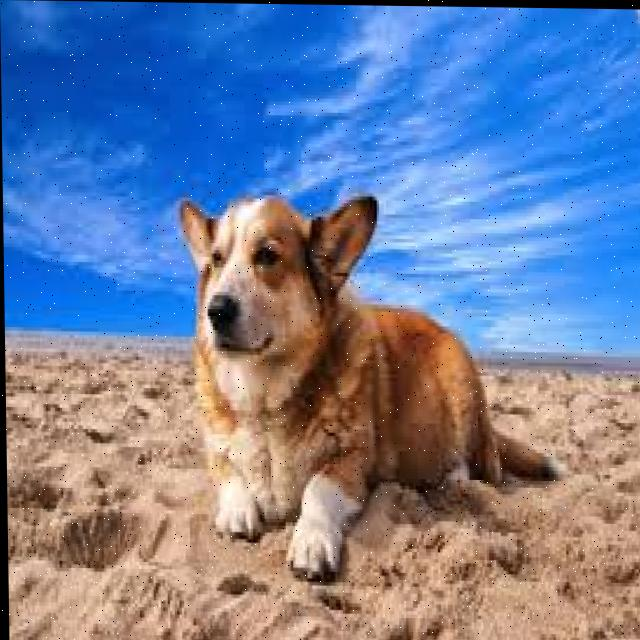CORGI: (148, 190, 579, 598)
